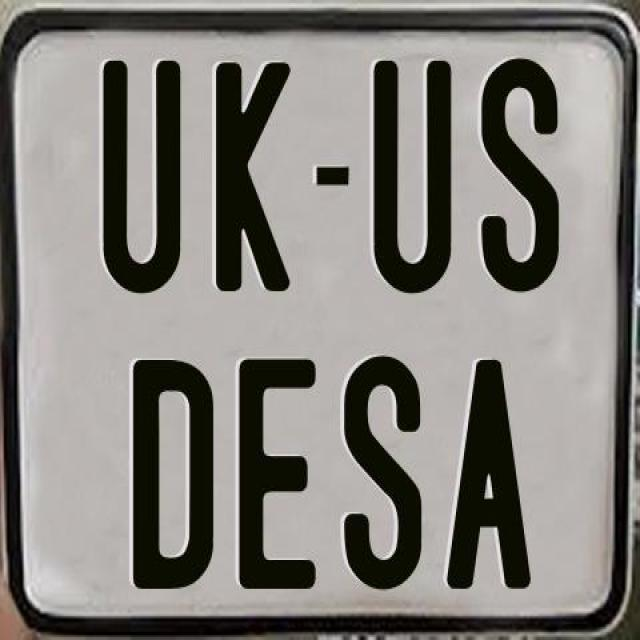A: (444, 360, 530, 597)
D: (130, 356, 210, 588)
E: (235, 354, 316, 590)
K: (212, 63, 287, 294)
S: (344, 356, 426, 594), (482, 53, 562, 294)
U: (98, 61, 182, 300), (372, 61, 452, 296)
